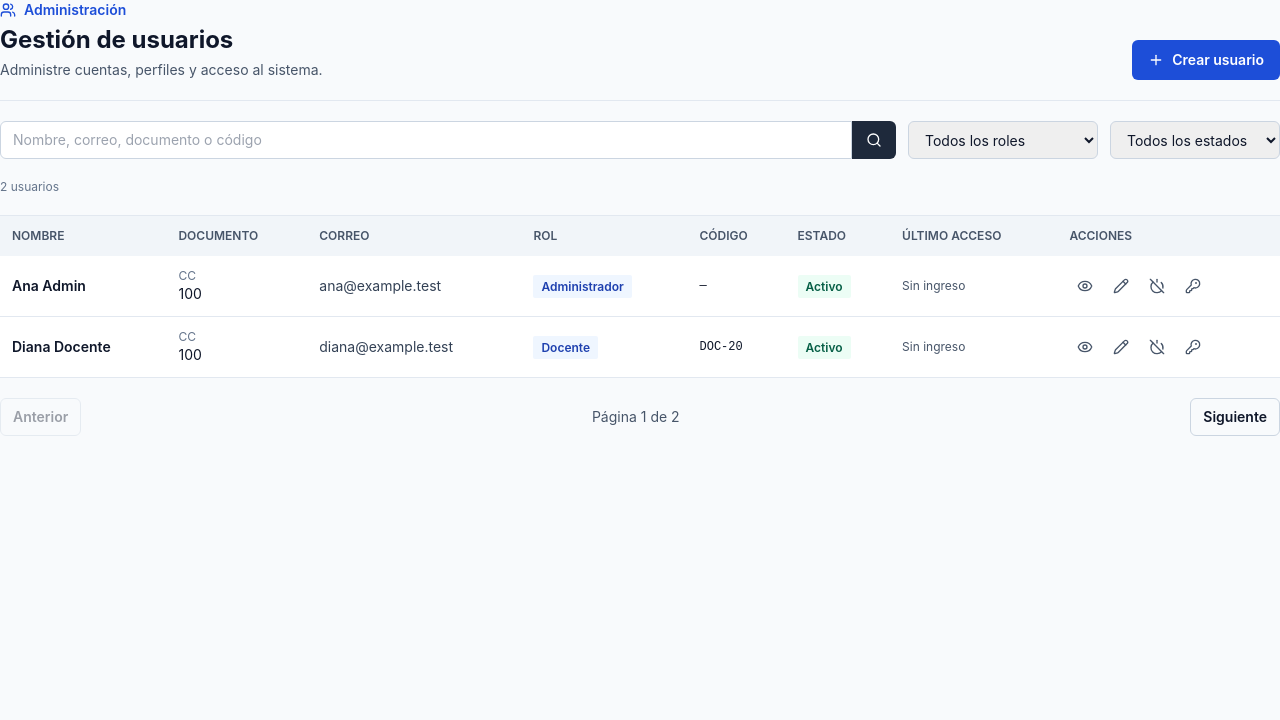
listado administrativo de usuarios › consulta y muestra el detalle
This screenshot has width=1280, height=720.
Click the button named "Ver detalle" in the row of "diana@example.test". click: (1085, 347)
box: [1069,331,1101,363]
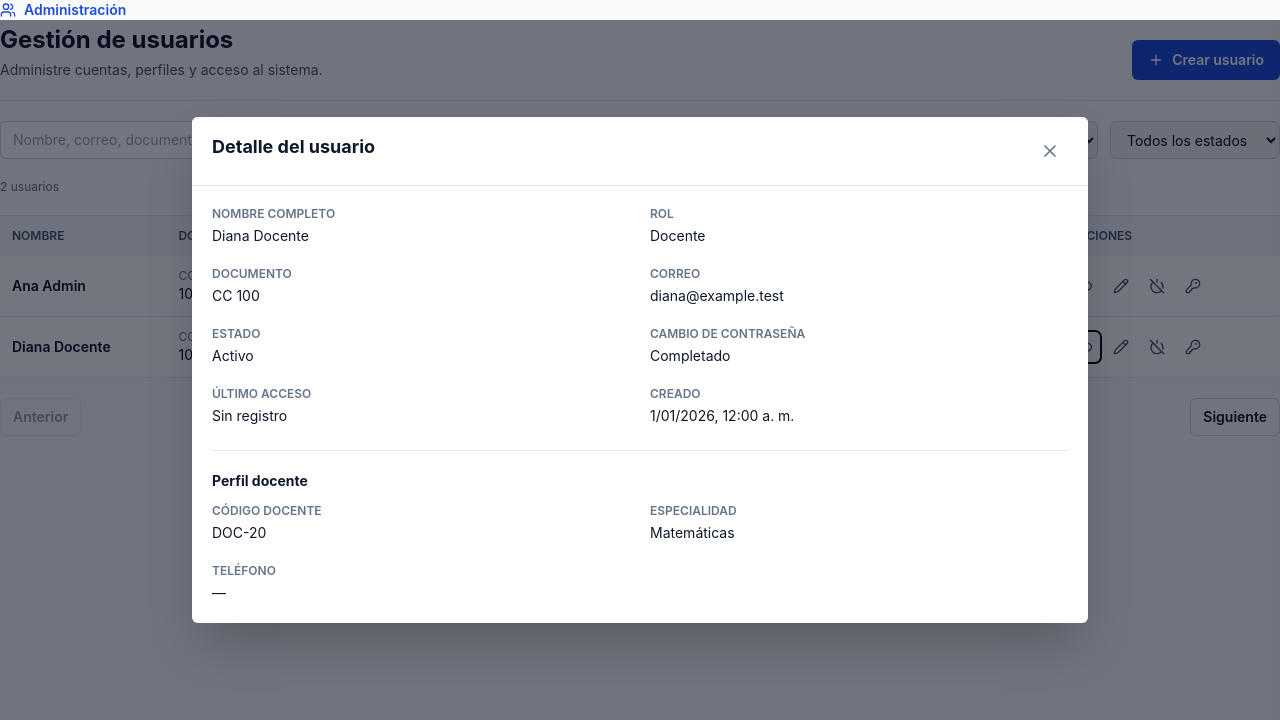
Expected: the heading "Perfil docente" is shown, [212,472,308,489]
Expected: the text "Matemáticas" is shown, [650,524,735,541]
